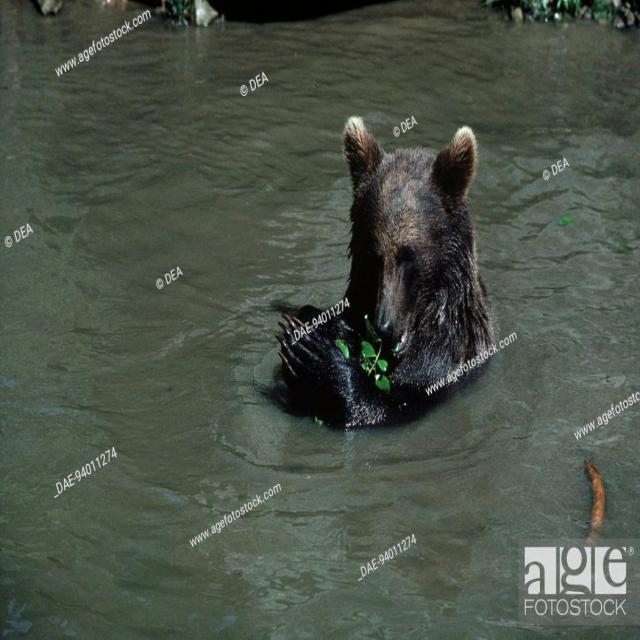Bear: (280, 117, 499, 429)
